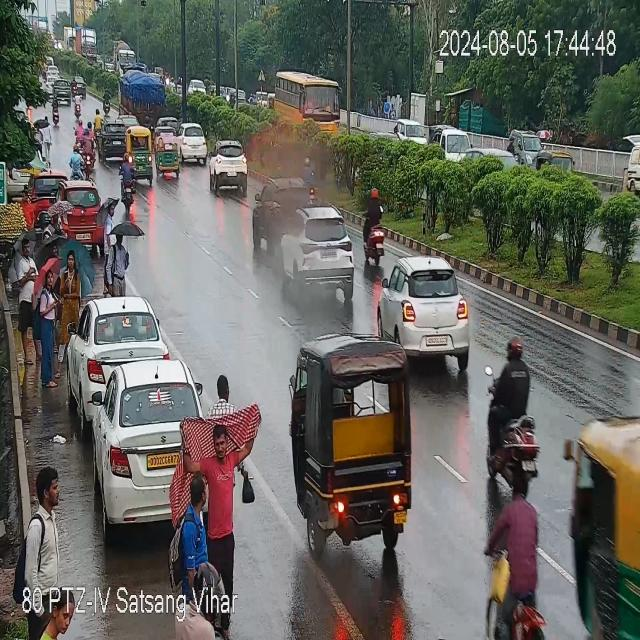2-wheelers: (484, 467, 541, 640), (479, 342, 543, 494), (360, 190, 393, 268), (15, 96, 64, 129), (120, 157, 140, 210), (69, 146, 85, 176), (70, 95, 86, 122), (69, 76, 87, 100), (83, 130, 93, 172), (102, 86, 110, 113), (75, 120, 82, 143)
auto: (294, 326, 422, 552), (556, 403, 638, 640), (154, 124, 183, 180), (127, 127, 158, 177)
bus: (274, 66, 343, 132)
car: (92, 363, 199, 524), (380, 253, 476, 363), (71, 295, 162, 404), (278, 204, 357, 296), (62, 184, 110, 244), (207, 147, 249, 196), (100, 118, 131, 163), (623, 124, 640, 200), (176, 123, 208, 163)
pedestrian: (18, 468, 68, 631), (210, 421, 242, 587), (185, 466, 212, 580), (182, 575, 228, 640), (36, 262, 56, 391), (58, 250, 78, 373), (18, 234, 34, 362), (101, 204, 117, 286), (207, 368, 232, 418), (112, 233, 128, 297), (21, 191, 38, 229), (42, 114, 52, 168), (40, 208, 51, 244), (49, 247, 57, 256)
truck: (122, 72, 166, 124)
